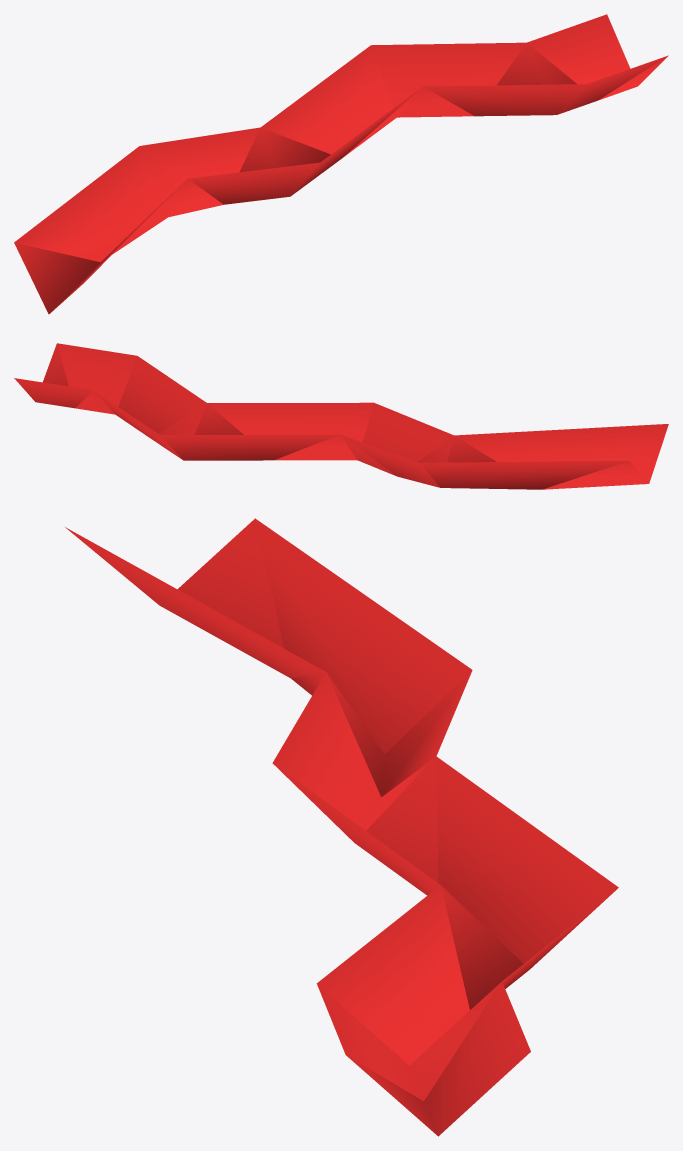
Rendered from VFX_Crack3.fbx.
The picture shows the model from 3 angles, top to bottom: view 1: azimuth 30°, elevation 25°; view 2: azimuth 150°, elevation 25°; view 3: azimuth 270°, elevation 25°; orthographic projection. The views are drawn at different scales.
Visible parts, largest first — view 1: polySurface1; view 2: polySurface1; view 3: polySurface1.
Part boxes in pixels (<box>): polySurface1: <box>14,14,668,314</box>; polySurface1: <box>14,343,668,489</box>; polySurface1: <box>65,518,618,1136</box>.
Size of the model in its own units: 1752 by 127 by 766.
